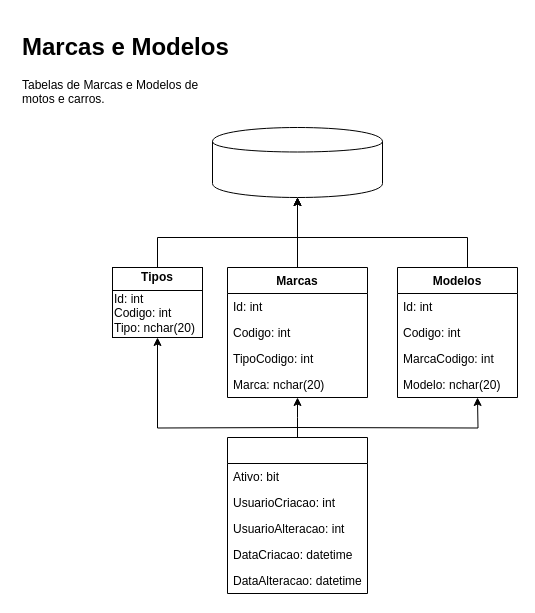
This 535x613 diagram has some shape labels left out. The shapes that lost their labels are listed below. From the top down, each one's box as (x1, y1, x2, y2) in pixels, then its label:
(212, 126, 382, 198): HbsisDataBase
(226, 436, 368, 594): User Controls
